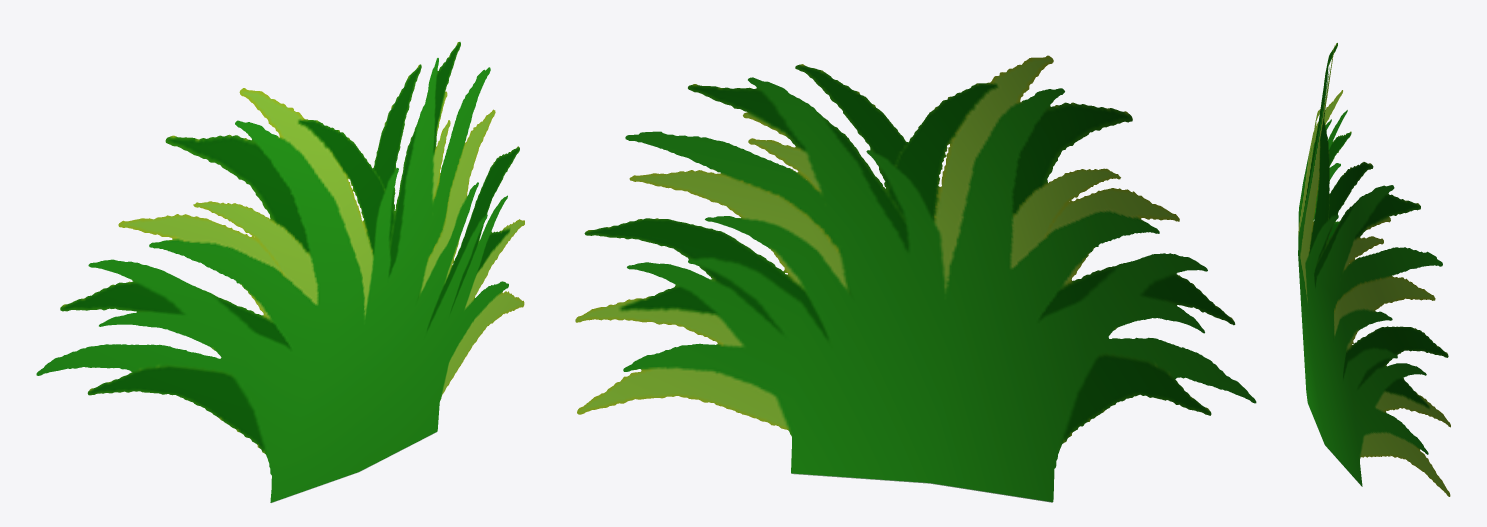
File: SM_Grass_03.fbx
3 renders of one model, left to right at view 1: azimuth 30°, elevation 25°; view 2: azimuth 150°, elevation 25°; view 3: azimuth 270°, elevation 25°, orthographic. The views are drawn at different scales.
Parts seen in each view (by area): view 1: SM_Grass_03; view 2: SM_Grass_03; view 3: SM_Grass_03.
Part boxes in pixels (box(x1,y1,x2,y2)): SM_Grass_03: box(36, 42, 524, 502); SM_Grass_03: box(575, 55, 1256, 502); SM_Grass_03: box(1298, 43, 1450, 496).
Bounding box in the file's own units: 13.94 × 9.98 × 4.31.
